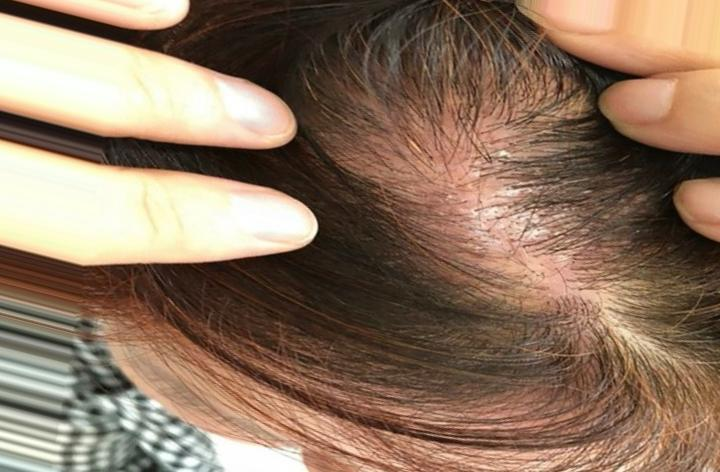Contact Dermatitis: (340, 68, 556, 328)
